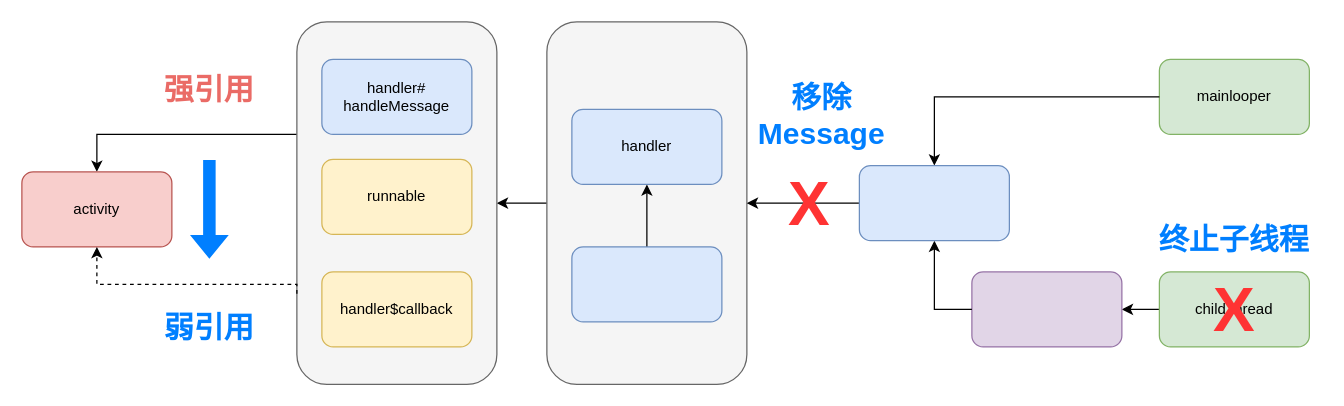
The diagram is 1344 pixels wide and 406 high, and some of its shapes have lost their labels. Each missing label, with the box of its shape:
looper: (971, 271, 1122, 347)
message: (571, 246, 722, 322)
messagequeue: (858, 164, 1009, 241)
